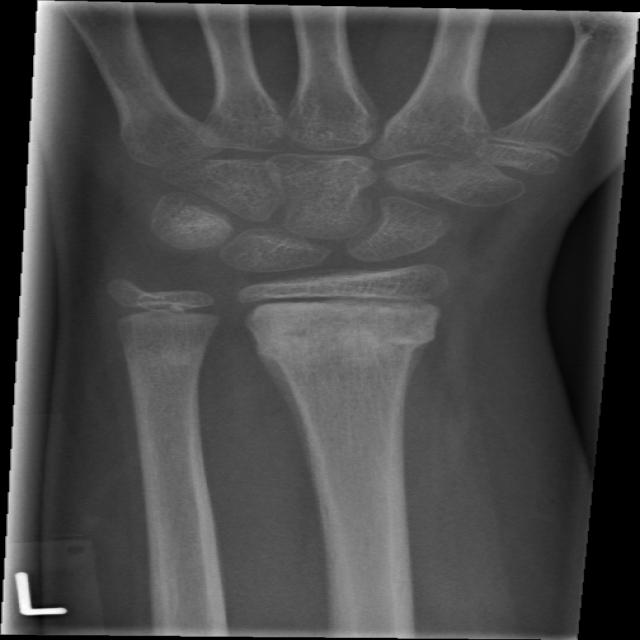radius fracture: (251, 314, 486, 403)
ulna fracture: (86, 316, 243, 422)
